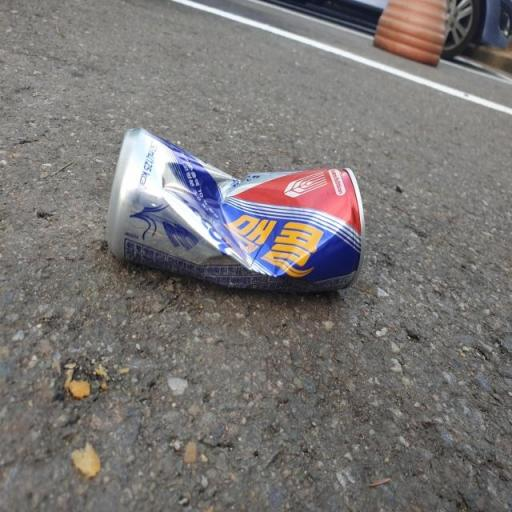metal: (76, 104, 385, 325)
